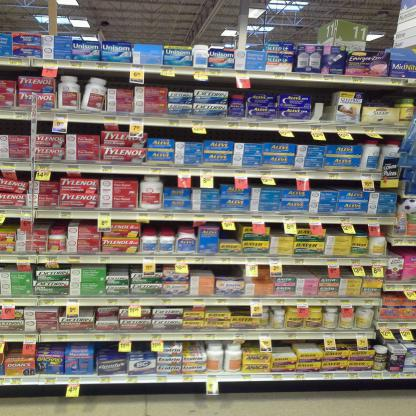Void: (217, 130, 277, 142), (363, 86, 397, 106), (288, 266, 324, 278), (214, 266, 242, 277), (98, 344, 123, 354), (5, 120, 27, 131), (222, 232, 240, 243), (75, 126, 96, 134), (229, 306, 249, 314), (276, 341, 292, 346)
